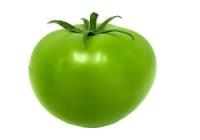tomato: (27, 7, 161, 132)
